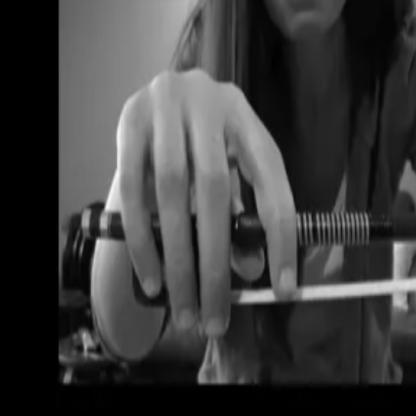good: (104, 38, 311, 346)
